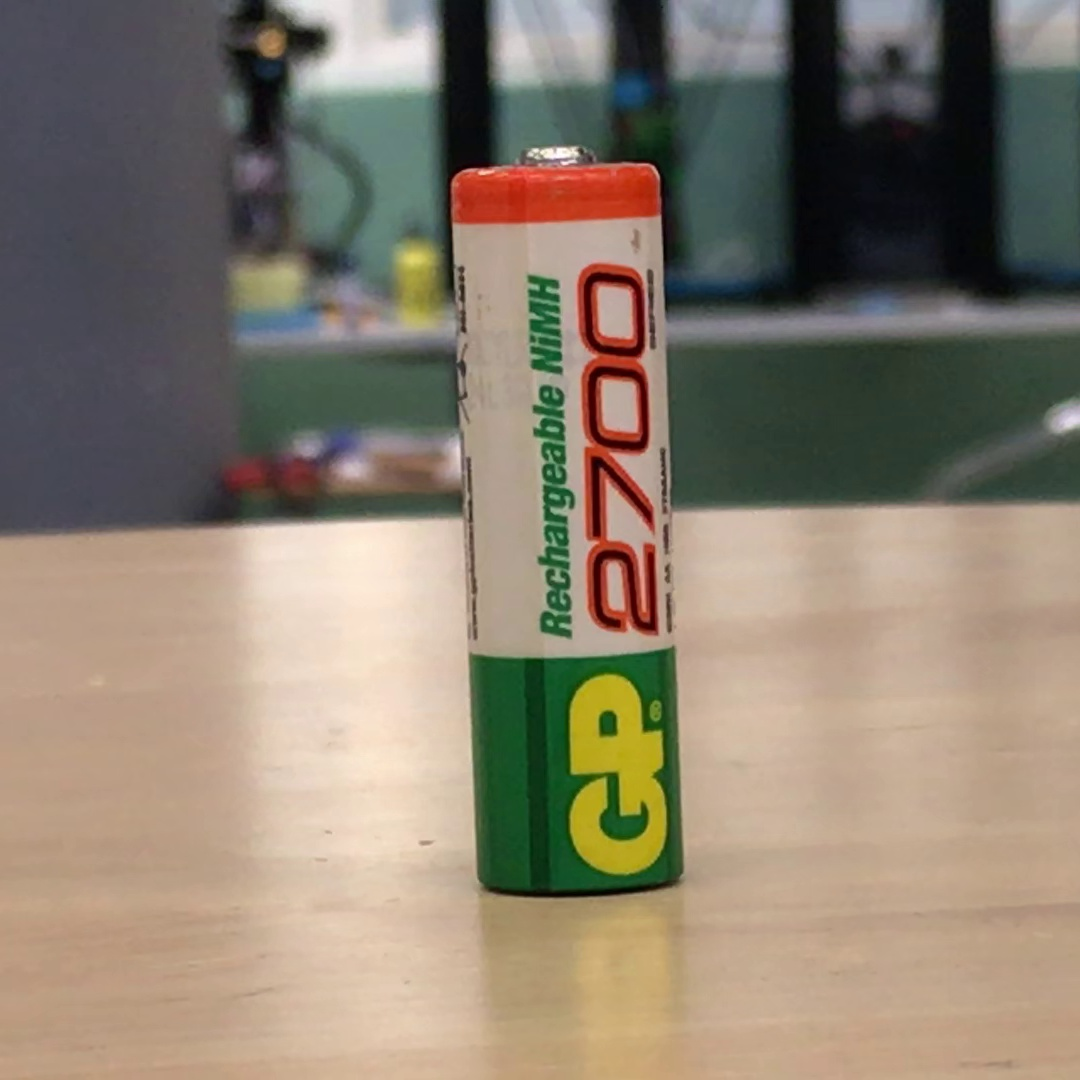keyword: (518, 265, 573, 385)
